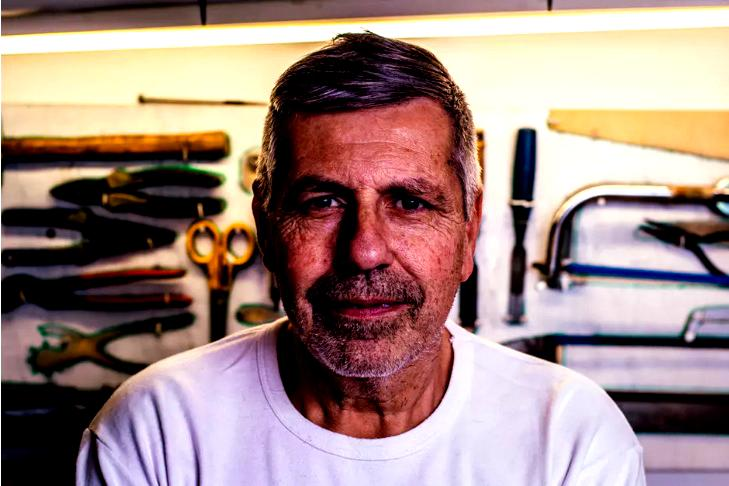face: (268, 95, 462, 375)
